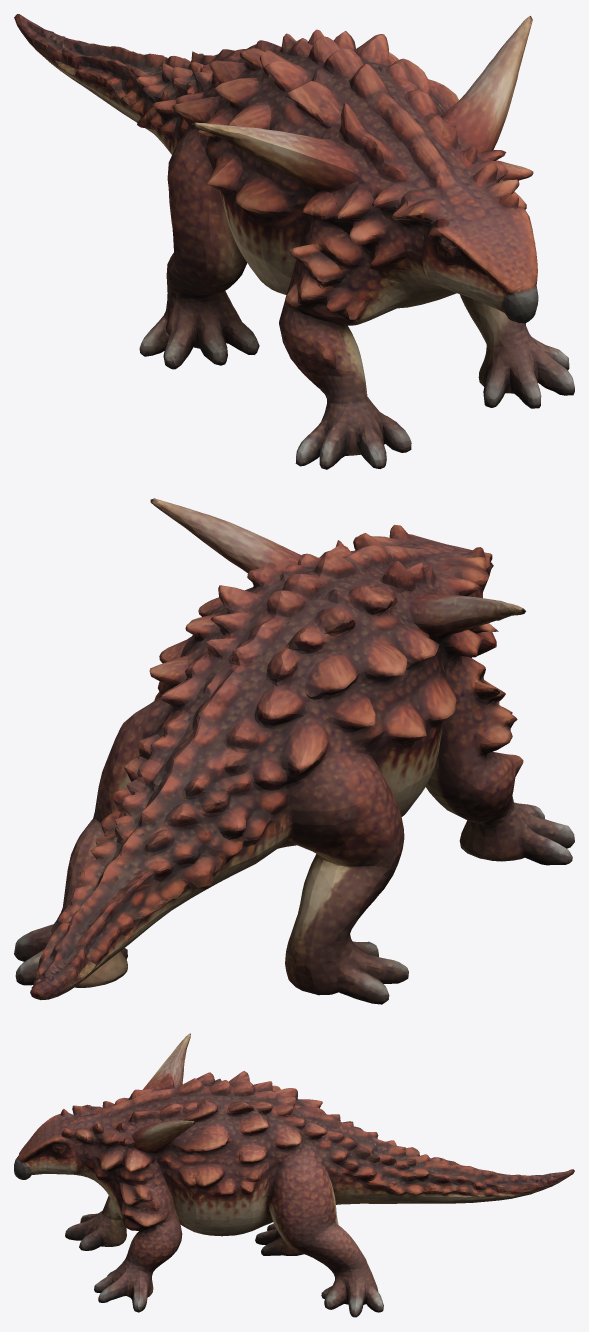
3 views of the same model, one above another, from view 1: azimuth 30°, elevation 25°; view 2: azimuth 150°, elevation 25°; view 3: azimuth 270°, elevation 25° (orthographic). The views are drawn at different scales.
Parts seen in each view (by area): view 1: world; view 2: world; view 3: world.
Boxes of the visible parts, x1=… form: world: x1=14, y1=14, x2=574, y2=469; world: x1=14, y1=498, x2=574, y2=1004; world: x1=14, y1=1033, x2=574, y2=1317.
Size of the model in its own units: 0.4309 by 0.396 by 1.
1 material, 1 textured.
